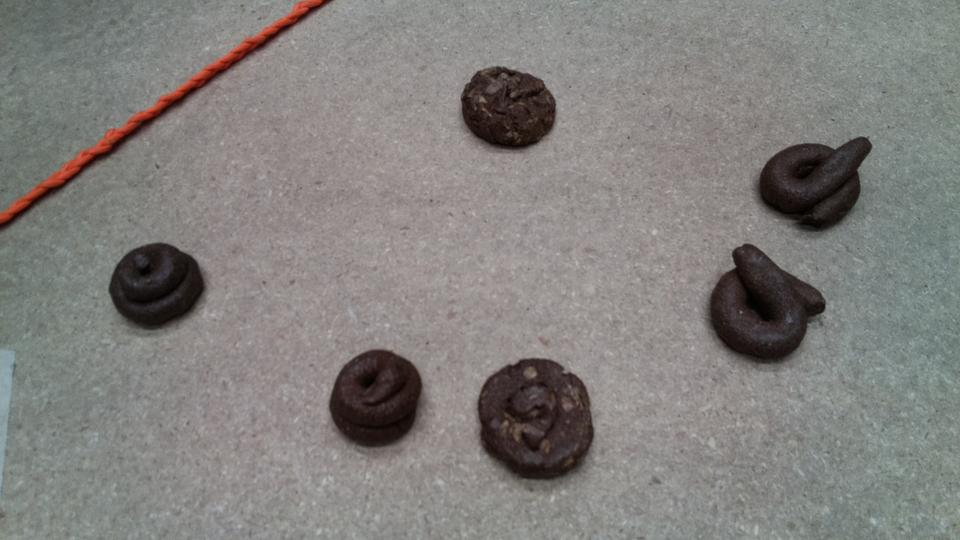poop: (471, 358, 607, 480), (703, 241, 831, 370), (759, 136, 876, 234), (326, 347, 427, 448), (109, 240, 214, 334), (460, 60, 559, 155)
rope: (84, 85, 200, 174), (176, 25, 300, 106), (3, 136, 95, 244), (218, 1, 346, 54)
